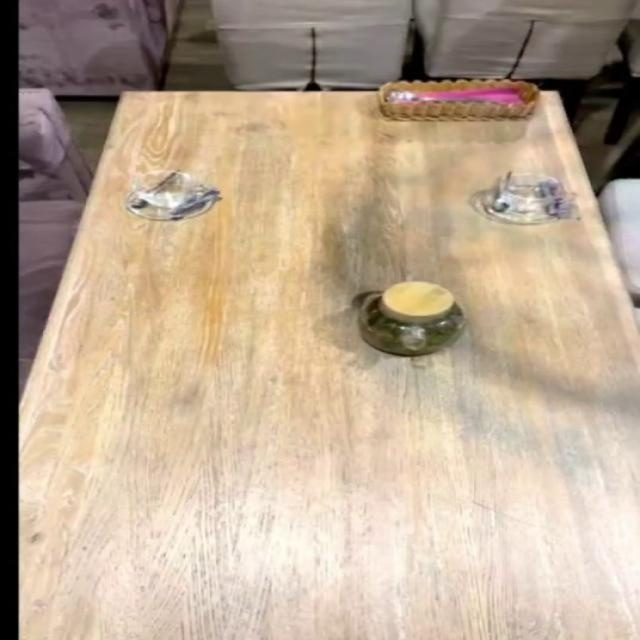tea: (342, 267, 502, 404)
